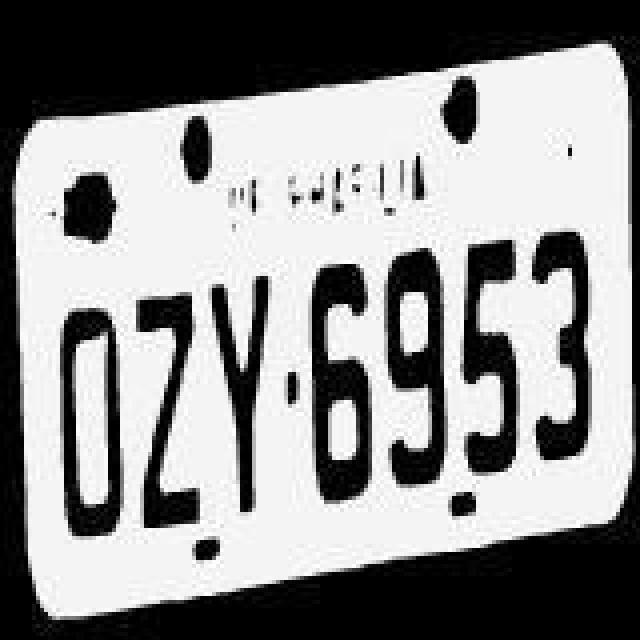3: (528, 202, 608, 486)
5: (456, 202, 536, 486)
6: (306, 236, 382, 516)
9: (380, 230, 452, 498)
O: (52, 286, 132, 562)
Y: (208, 250, 280, 534)
Z: (126, 274, 202, 558)
